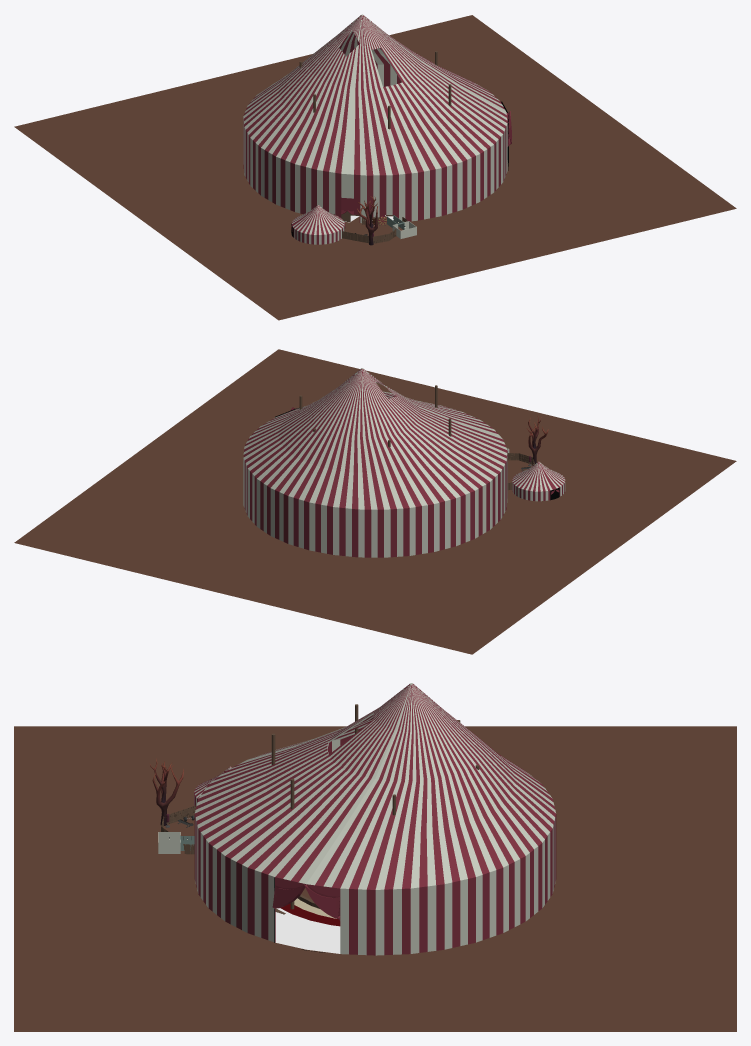
File: chapter_supplied.glb
3 views of the same model, one above another, from view 1: azimuth 30°, elevation 25°; view 2: azimuth 150°, elevation 25°; view 3: azimuth 270°, elevation 25° (orthographic). The views are drawn at different scales.
Parts seen in each view (by area): view 1: Plane, Шатер - главный.001, Шатер - главный, Шатер - гримерка.001, Make-up Tent; view 2: Plane, Шатер - главный.001, Шатер - главный, Шатер - гримерка.001, Make-up Tent; view 3: Plane, Шатер - главный.001, Шатер - главный, Circle, DeadTree2.
Part boxes in pixels (x1=…): Plane: x1=14, y1=15, x2=736, y2=320; Шатер - главный.001: x1=243, y1=14, x2=507, y2=175; Шатер - главный: x1=243, y1=64, x2=511, y2=223; Шатер - гримерка.001: x1=292, y1=205, x2=344, y2=234; Make-up Tent: x1=291, y1=216, x2=345, y2=244; Plane: x1=14, y1=349, x2=736, y2=654; Шатер - главный.001: x1=243, y1=368, x2=507, y2=509; Шатер - главный: x1=243, y1=407, x2=507, y2=557; Шатер - гримерка.001: x1=512, y1=461, x2=565, y2=491; Make-up Tent: x1=512, y1=471, x2=565, y2=501; Plane: x1=14, y1=726, x2=736, y2=1031; Шатер - главный.001: x1=194, y1=683, x2=556, y2=889; Шатер - главный: x1=194, y1=739, x2=556, y2=955; Circle: x1=275, y1=898, x2=340, y2=953; DeadTree2: x1=149, y1=758, x2=183, y2=825.
Size of the model in its own units: 200 by 60.17 by 200.
Materials: 123 (9 with a texture image).
